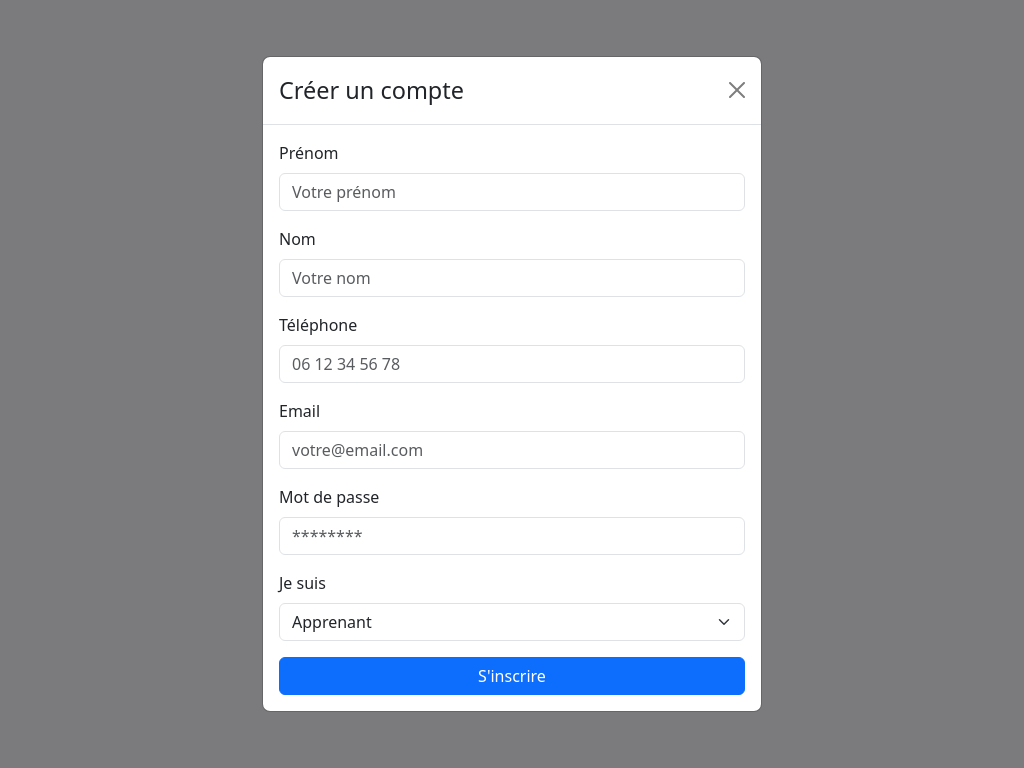
Scenario: RegisterModal › affiche le message d erreur serveur en contexte register (401)
In the field with placeholder "Votre prénom": (512, 192) [279, 173, 745, 211], type "Alice"
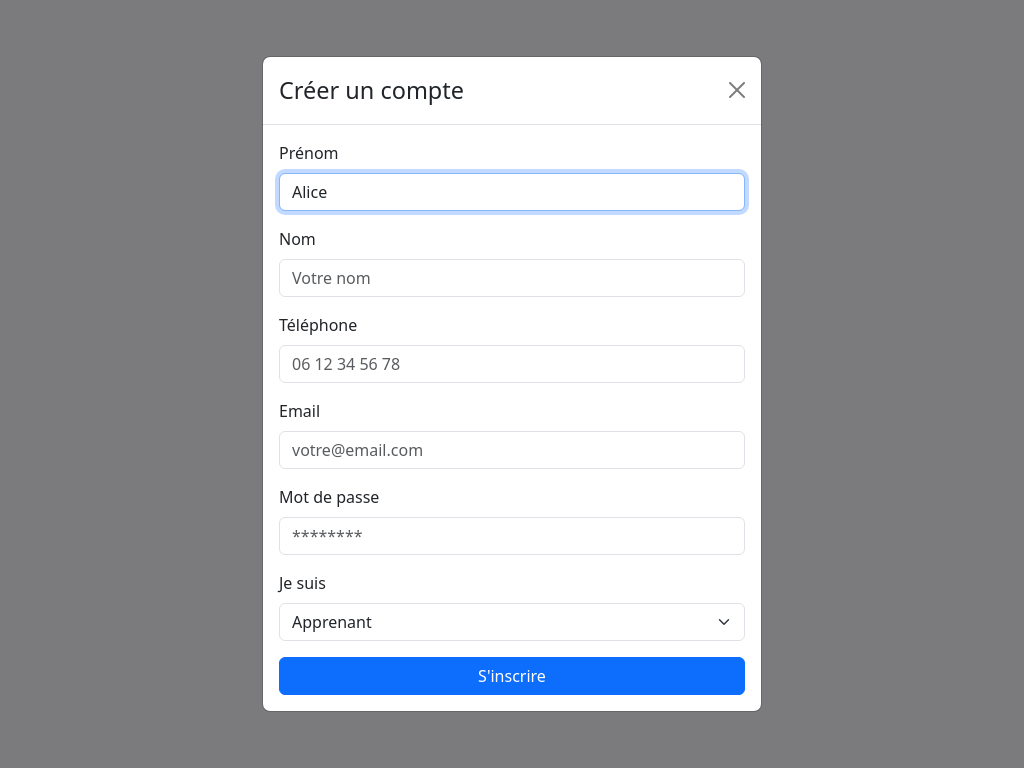
In the field with placeholder "Votre nom": (512, 278) [279, 259, 745, 297], type "Martin"
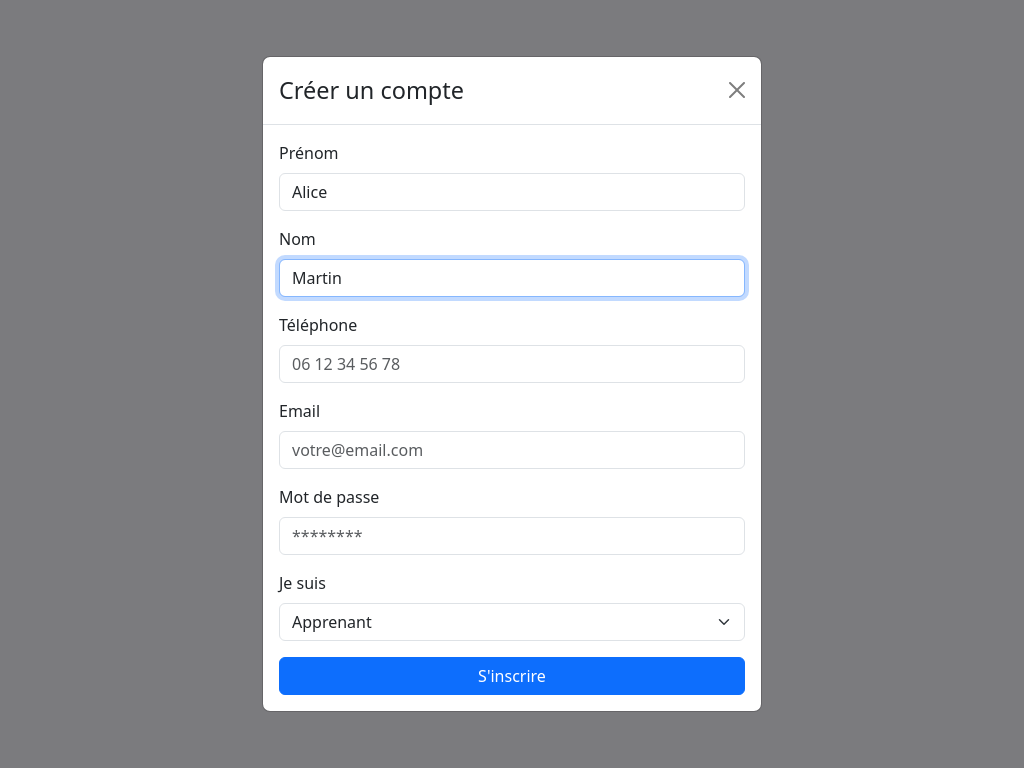
In the field with placeholder "06 12 34 56 78": (512, 364) [279, 345, 745, 383], type "+261340000000"
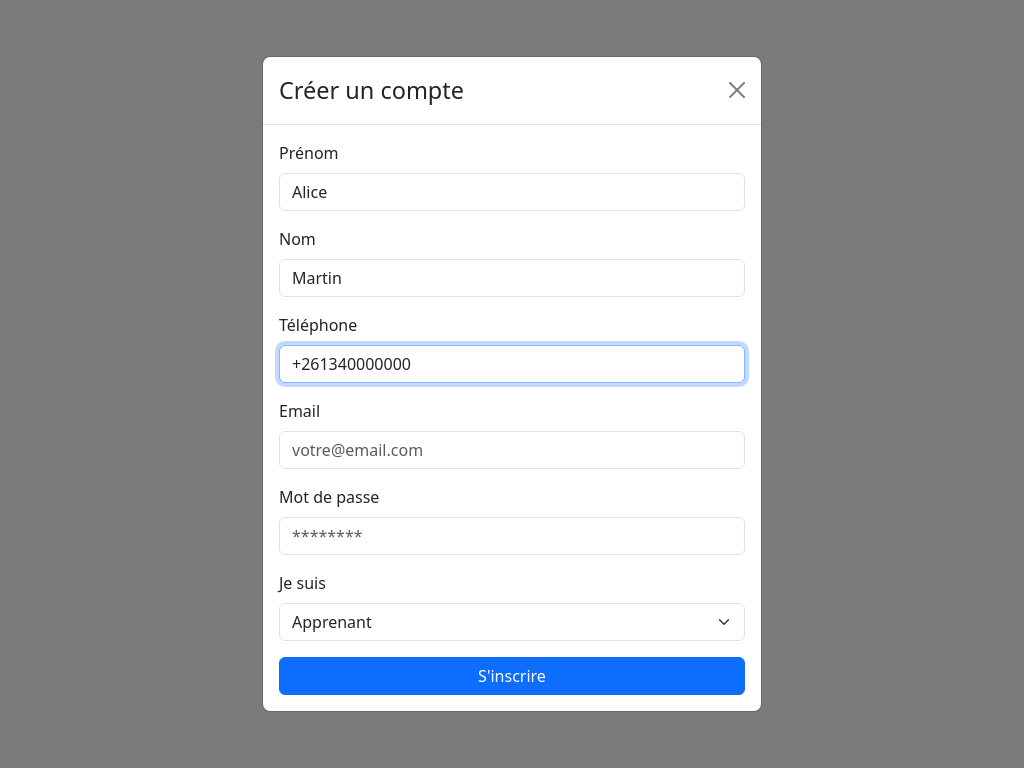
In the field with placeholder "votre@email.com": (512, 450) [279, 431, 745, 469], type "alice@test.com"
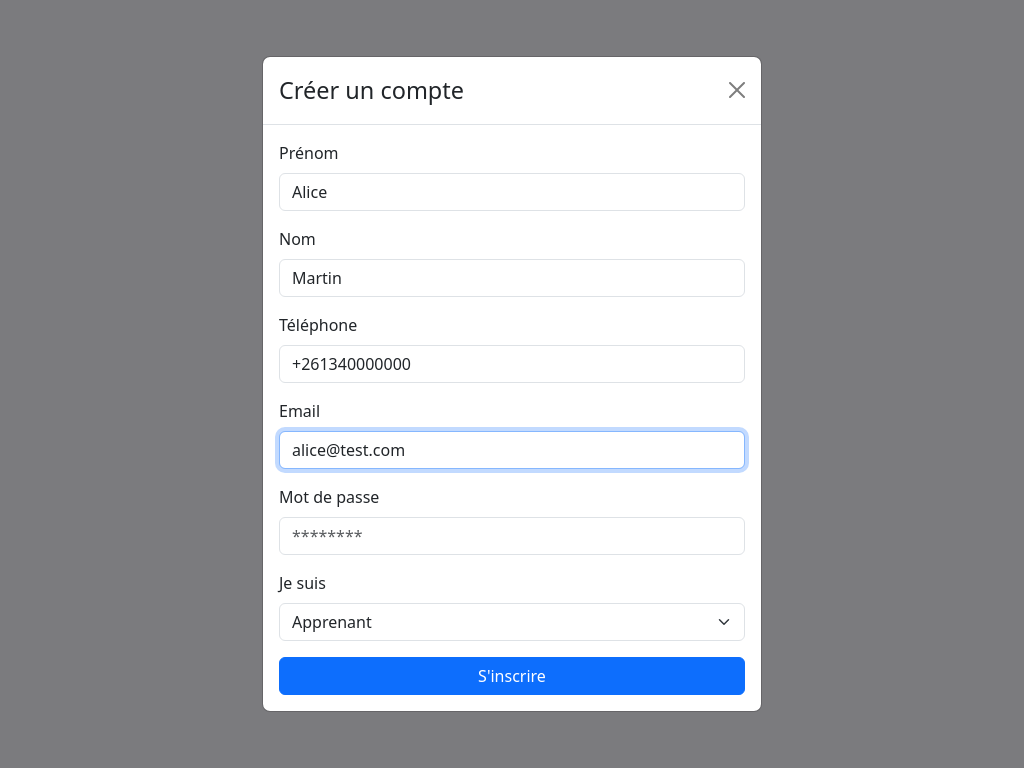
In the password field with placeholder "********": (512, 536) [279, 517, 745, 555], type "Password123!"
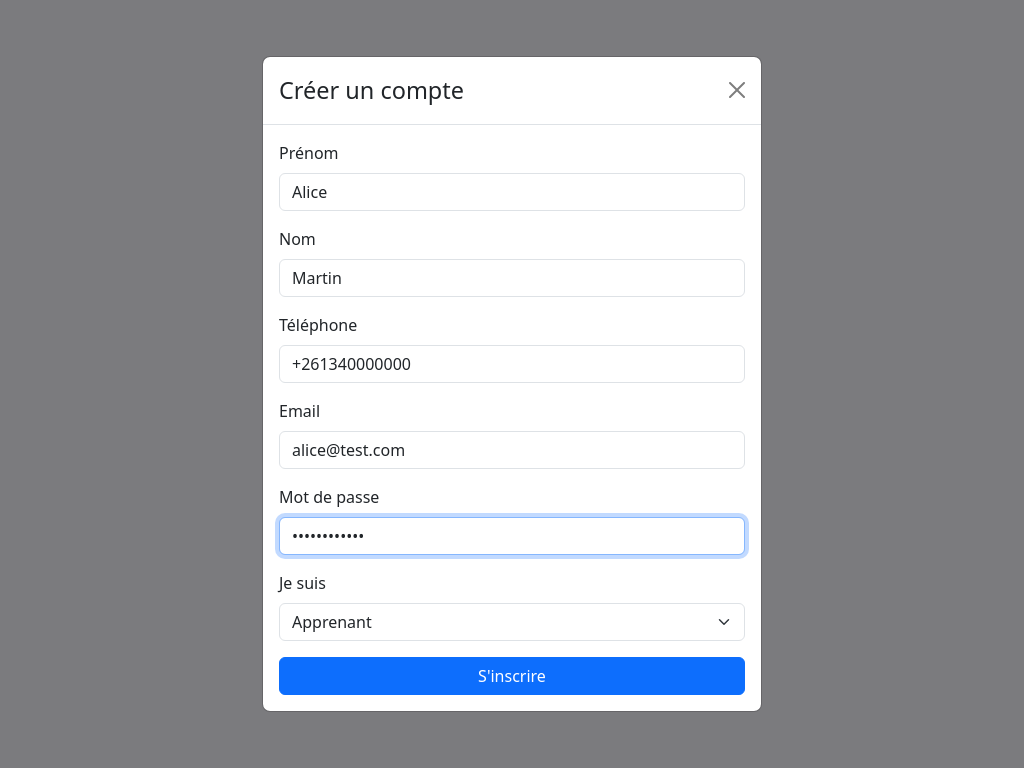
Click the button "S'inscrire": (512, 676) [279, 657, 745, 695]
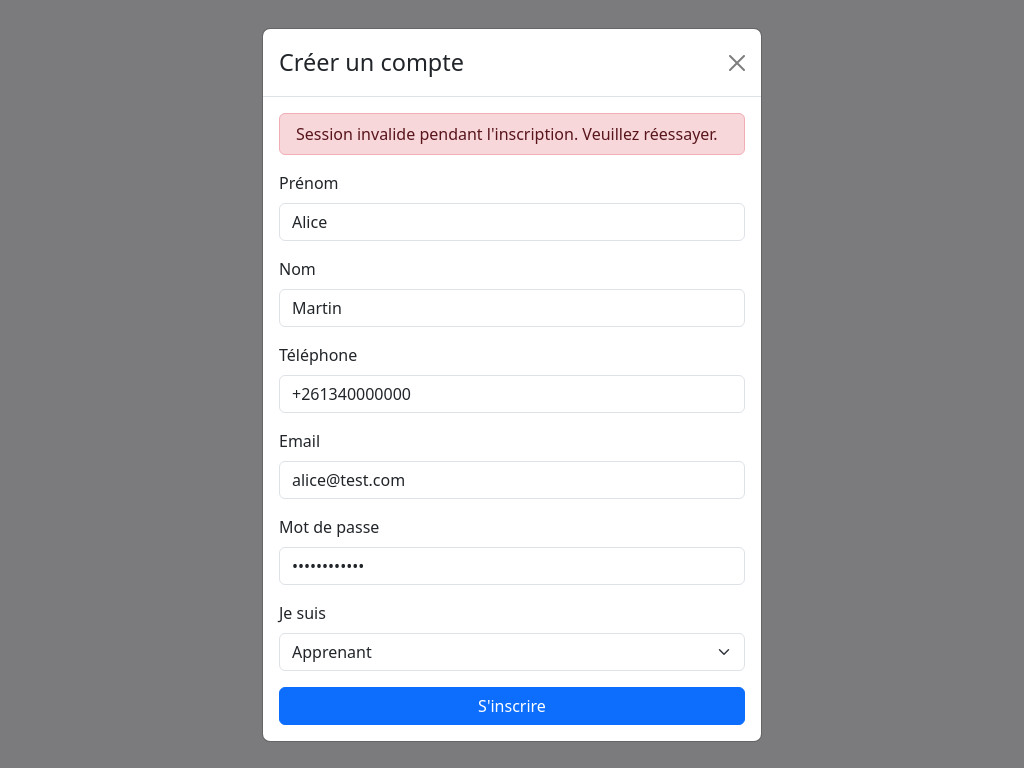
Expected: the text "Session invalide pendant l'inscription. Veuillez réessayer." is shown, [279, 113, 745, 155]
